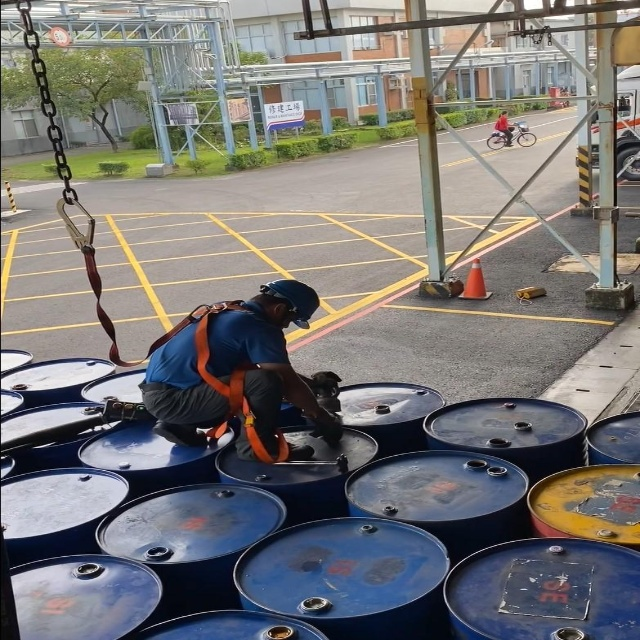Arnes_seguridad: (151, 299, 295, 468)
